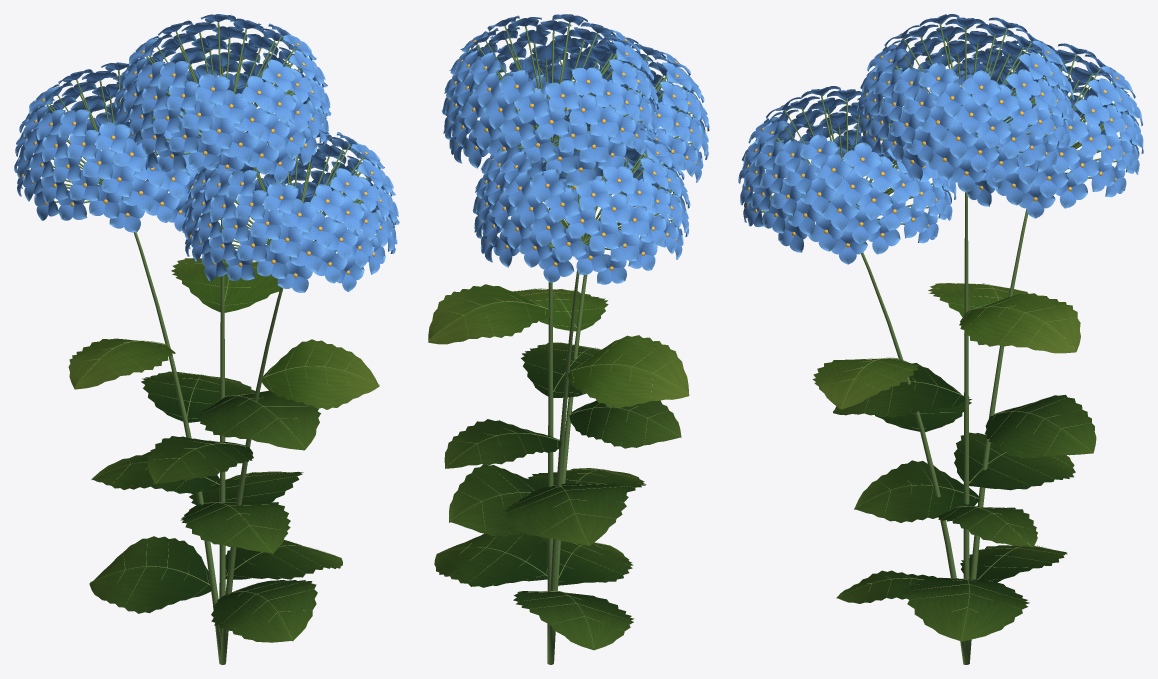
File: hydrangea-10.glb
3 views of the same model, side by side, from view 1: azimuth 30°, elevation 25°; view 2: azimuth 150°, elevation 25°; view 3: azimuth 270°, elevation 25° (orthographic).
Parts seen in each view (by area): view 1: hydrangea_stage_10_hydrangea_petal.018, hydrangea_stage_10_leaf_veins.018, hydrangea_stage_10_young_leaf.018, hydrangea_stage_10_stem_fibres.018, hydrangea_stage_10_raised_midveins.018, hydrangea_stage_10_pollen_granules.018; view 2: hydrangea_stage_10_hydrangea_petal.018, hydrangea_stage_10_leaf_veins.018, hydrangea_stage_10_young_leaf.018, hydrangea_stage_10_stem_fibres.018, hydrangea_stage_10_raised_midveins.018, hydrangea_stage_10_pollen_granules.018; view 3: hydrangea_stage_10_hydrangea_petal.018, hydrangea_stage_10_leaf_veins.018, hydrangea_stage_10_young_leaf.018, hydrangea_stage_10_stem_fibres.018, hydrangea_stage_10_raised_midveins.018, hydrangea_stage_10_pollen_granules.018.
Boxes of the visible parts, x1=… form: hydrangea_stage_10_hydrangea_petal.018: x1=14, y1=14, x2=399, y2=292; hydrangea_stage_10_leaf_veins.018: x1=89, y1=371, x2=342, y2=642; hydrangea_stage_10_young_leaf.018: x1=68, y1=258, x2=379, y2=409; hydrangea_stage_10_stem_fibres.018: x1=29, y1=22, x2=382, y2=664; hydrangea_stage_10_raised_midveins.018: x1=72, y1=263, x2=379, y2=639; hydrangea_stage_10_pollen_granules.018: x1=21, y1=43, x2=381, y2=277; hydrangea_stage_10_hydrangea_petal.018: x1=442, y1=14, x2=709, y2=284; hydrangea_stage_10_leaf_veins.018: x1=434, y1=342, x2=681, y2=650; hydrangea_stage_10_young_leaf.018: x1=428, y1=284, x2=689, y2=408; hydrangea_stage_10_stem_fibres.018: x1=468, y1=22, x2=694, y2=664; hydrangea_stage_10_raised_midveins.018: x1=429, y1=288, x2=688, y2=647; hydrangea_stage_10_pollen_granules.018: x1=448, y1=39, x2=701, y2=270; hydrangea_stage_10_hydrangea_petal.018: x1=738, y1=14, x2=1143, y2=264; hydrangea_stage_10_leaf_veins.018: x1=833, y1=363, x2=1096, y2=641; hydrangea_stage_10_young_leaf.018: x1=812, y1=283, x2=1080, y2=409; hydrangea_stage_10_stem_fibres.018: x1=752, y1=23, x2=1127, y2=664; hydrangea_stage_10_raised_midveins.018: x1=817, y1=283, x2=1092, y2=640; hydrangea_stage_10_pollen_granules.018: x1=746, y1=33, x2=1127, y2=247.
Bounding box in the file's own units: 0.3746 × 0.81 × 0.4768.
6 materials, 3 textured.
